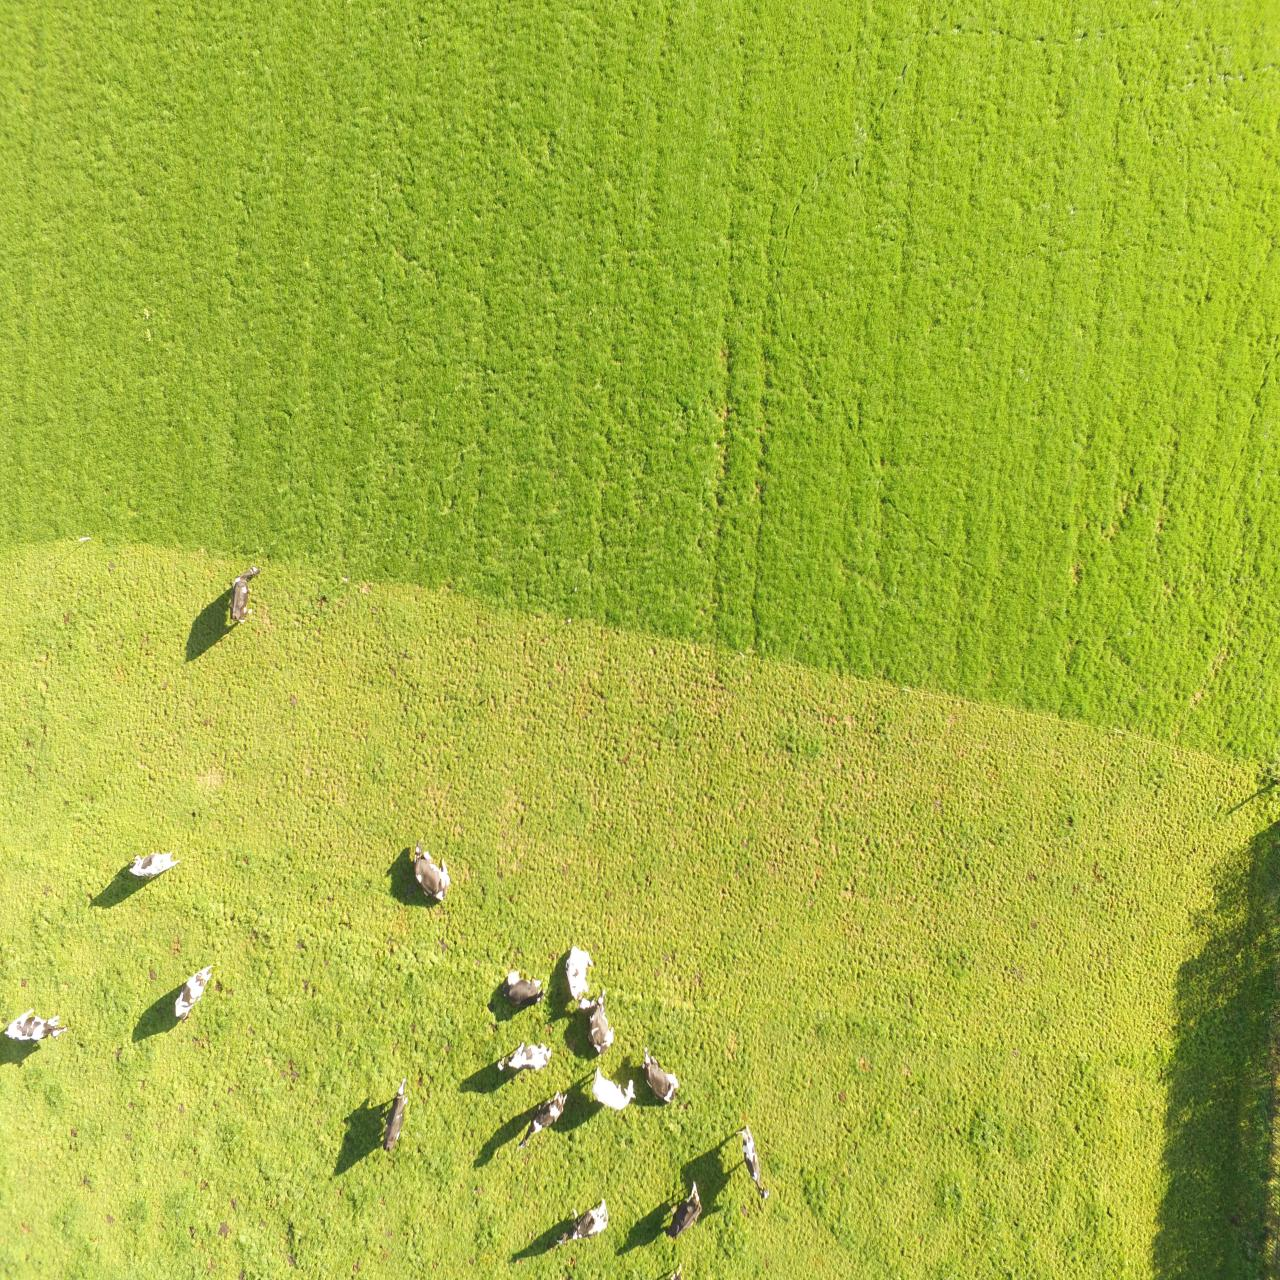cow: (518, 1091, 567, 1152), (556, 1193, 610, 1245), (413, 838, 452, 905), (737, 1125, 771, 1201), (170, 962, 216, 1019), (380, 1071, 408, 1157), (6, 1005, 68, 1043), (587, 1065, 636, 1112), (666, 1178, 700, 1241), (642, 1046, 676, 1107), (226, 566, 261, 624), (501, 968, 550, 1007), (561, 947, 599, 998), (496, 1039, 551, 1073), (587, 987, 613, 1058), (124, 847, 179, 879)
